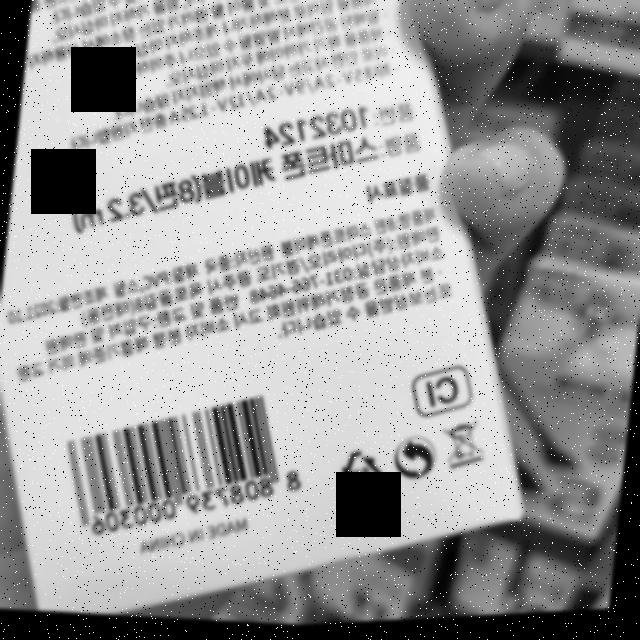Paper: (338, 449, 387, 501)
